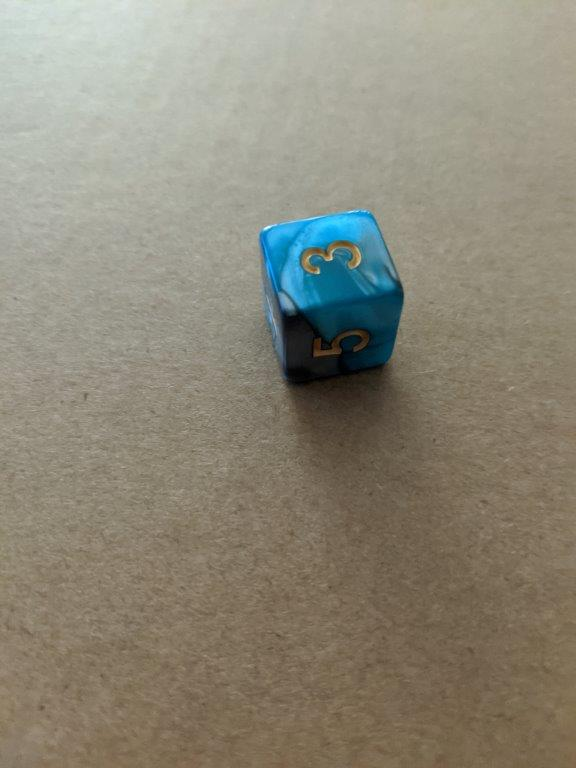d6-3: (259, 209, 406, 385)
